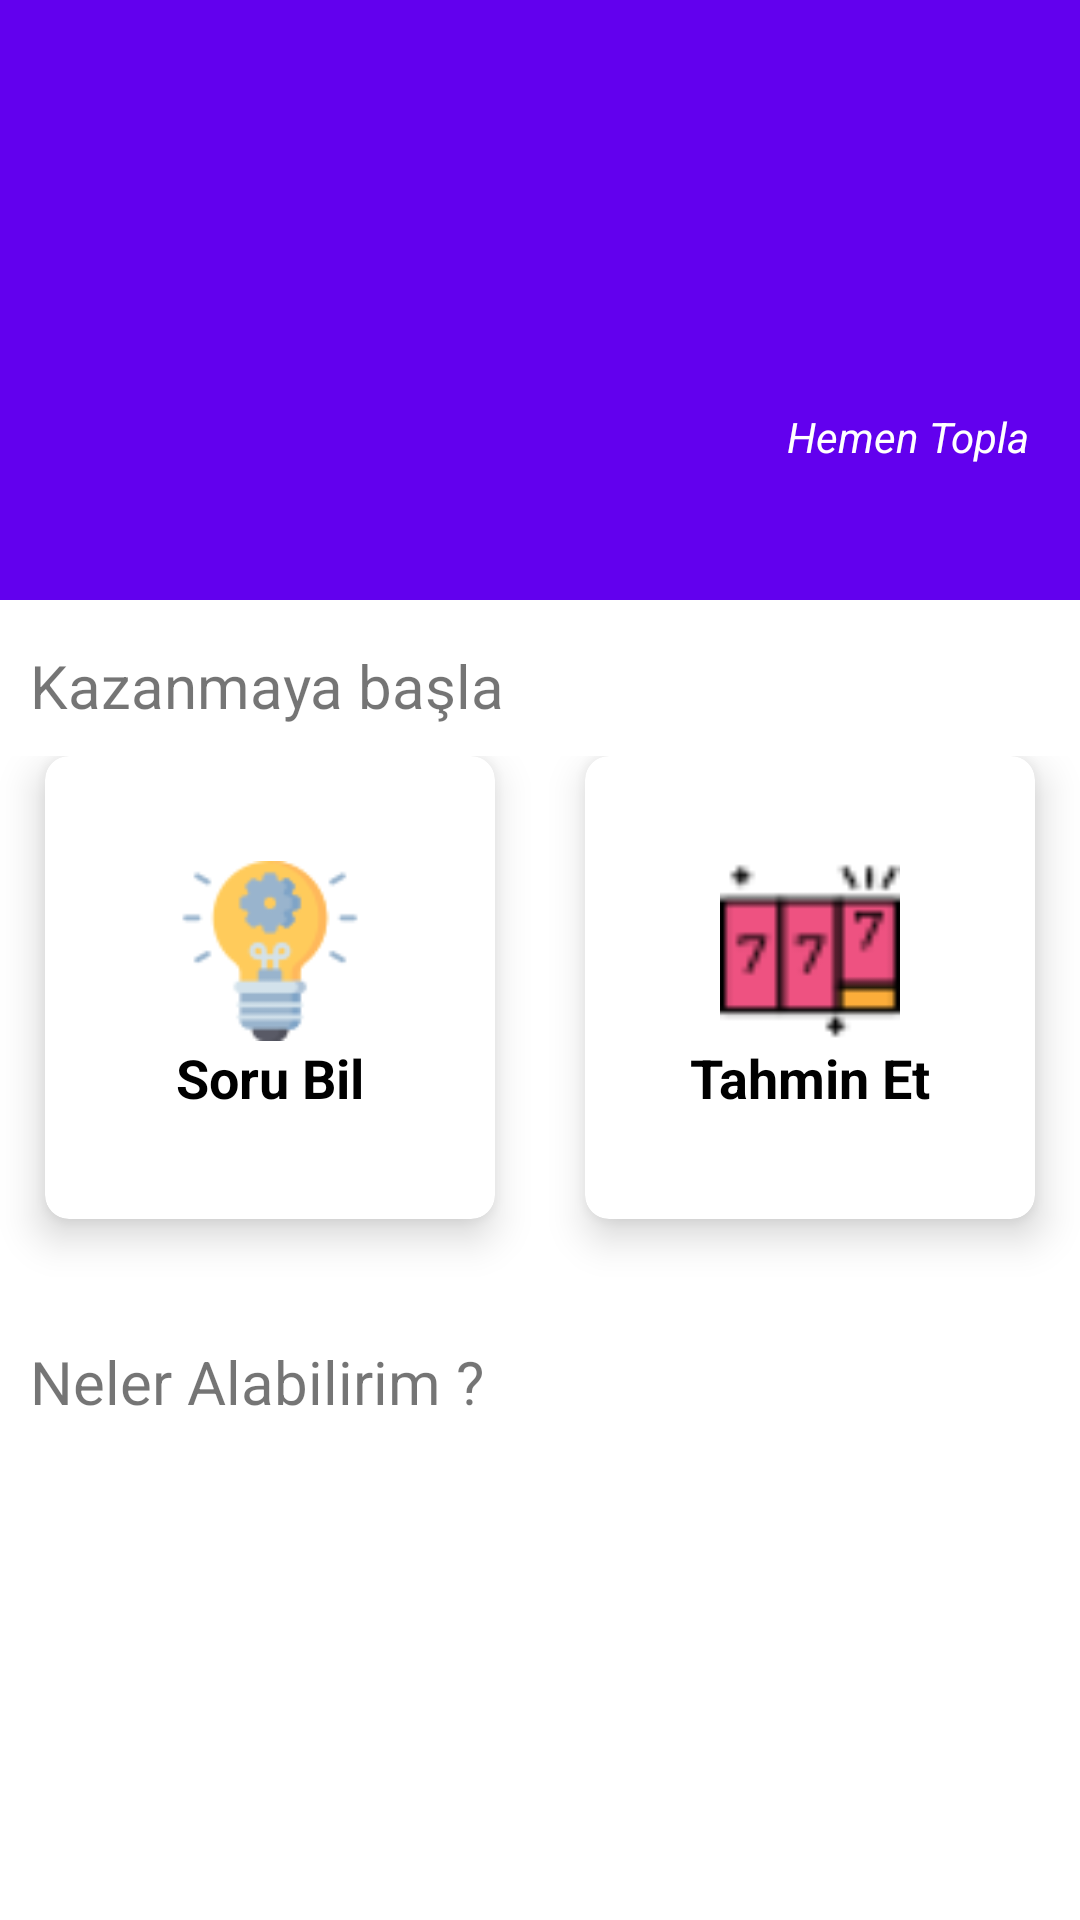

Named icons in this screenshot (1080×1920) and their centers, (x,y):
lucky: (810,951)
